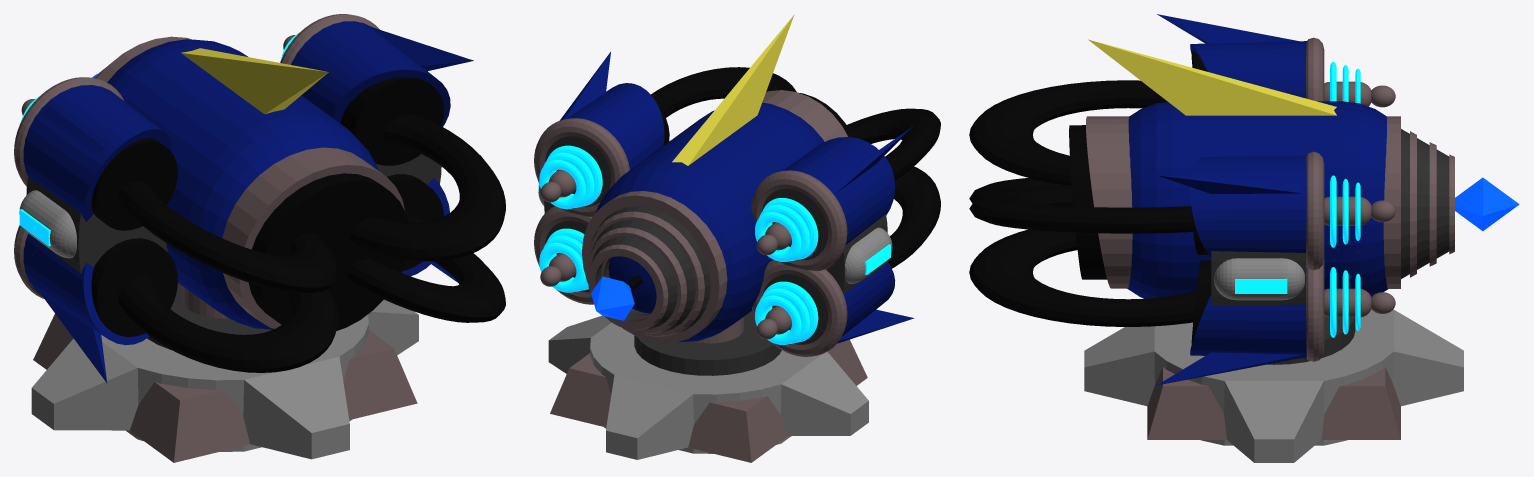
Rendered from WeaponLaserM3.fbx.
3 views of the same model, side by side, from view 1: azimuth 30°, elevation 25°; view 2: azimuth 150°, elevation 25°; view 3: azimuth 270°, elevation 25° (orthographic). The views are drawn at different scales.
Parts seen in each view (by area): view 1: Cylinder.009, Cylinder, Cylinder.003; view 2: Cylinder.009, Cylinder, Cylinder.003; view 3: Cylinder.009, Cylinder, Cylinder.003.
Part boxes in pixels (<box>): Cylinder.009: <box>14,14,505,383</box>; Cylinder: <box>31,299,418,462</box>; Cylinder.003: <box>147,282,272,349</box>; Cylinder.009: <box>534,14,940,356</box>; Cylinder: <box>548,315,868,462</box>; Cylinder.003: <box>634,311,781,375</box>; Cylinder.009: <box>969,14,1519,385</box>; Cylinder: <box>1084,309,1463,462</box>; Cylinder.003: <box>1193,316,1355,364</box>.
Size of the model in its own units: 802 by 764 by 1071.
